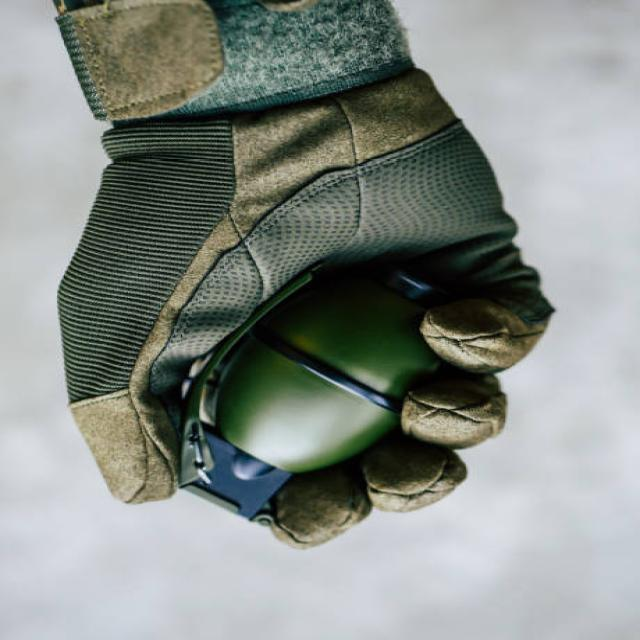grenade: (167, 260, 463, 536)
